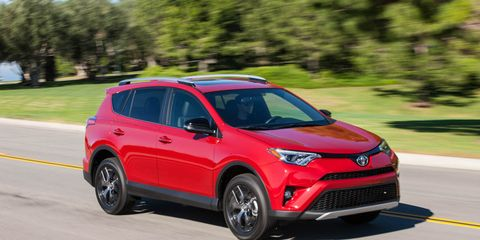Toyota RAV-4: (82, 74, 402, 240)
